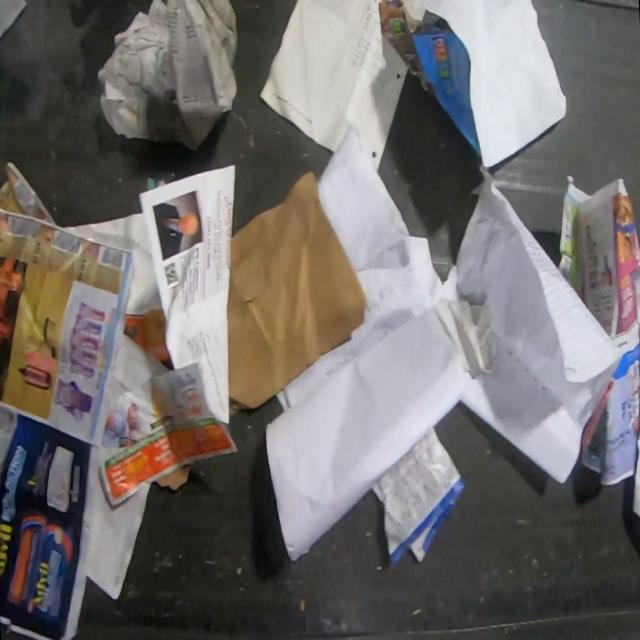cardboard: (228, 168, 370, 417), (154, 464, 193, 492)
